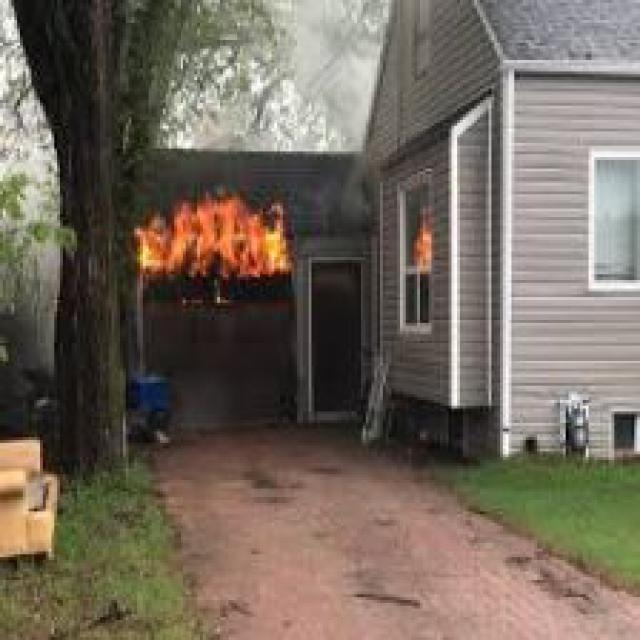fire: (126, 180, 303, 286)
